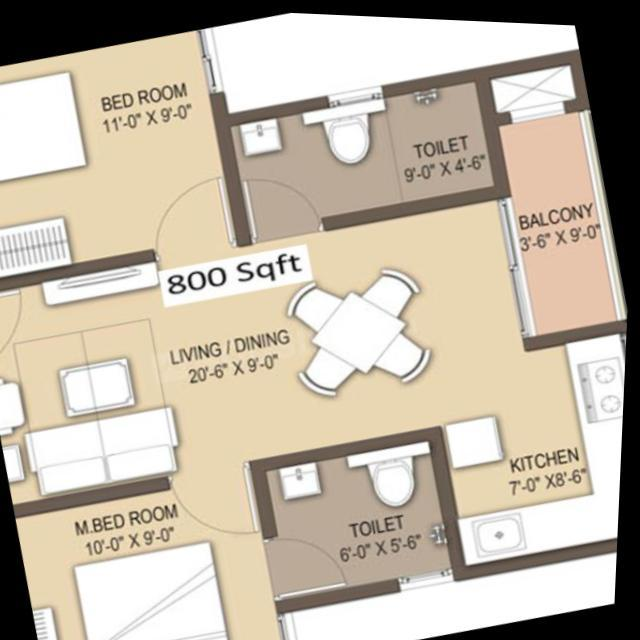Balcony-Sitout: (495, 107, 625, 323)
Bedroom: (0, 28, 234, 285)
Bedroom with Toilet: (18, 425, 463, 640)
Dining: (276, 248, 454, 409)
Enterance-Foyer: (0, 278, 43, 379)
Kitchen: (434, 323, 628, 558)
Living: (0, 248, 254, 503)
Toilet: (235, 75, 499, 223), (258, 437, 448, 595)
